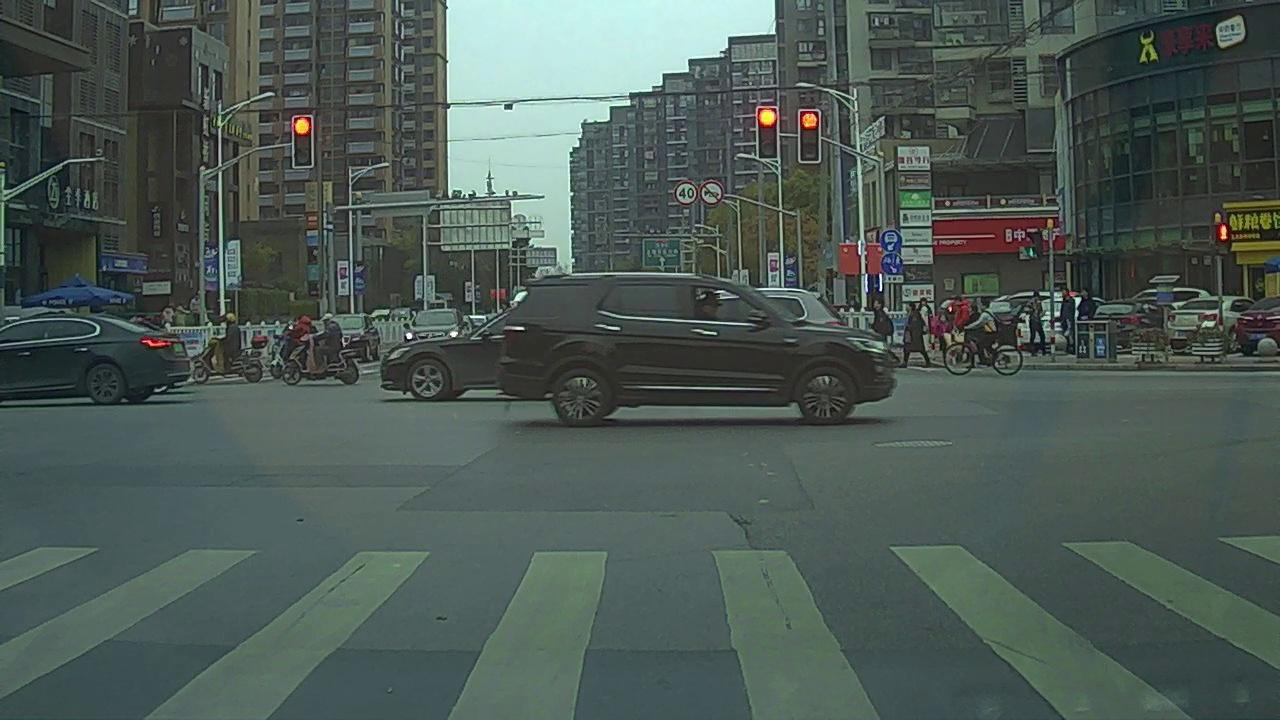traffic_light: (755, 108, 779, 156), (292, 112, 313, 164)
